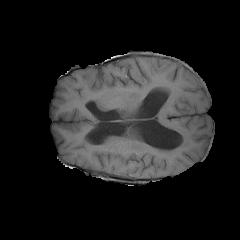glioma: (89, 131, 189, 160)
